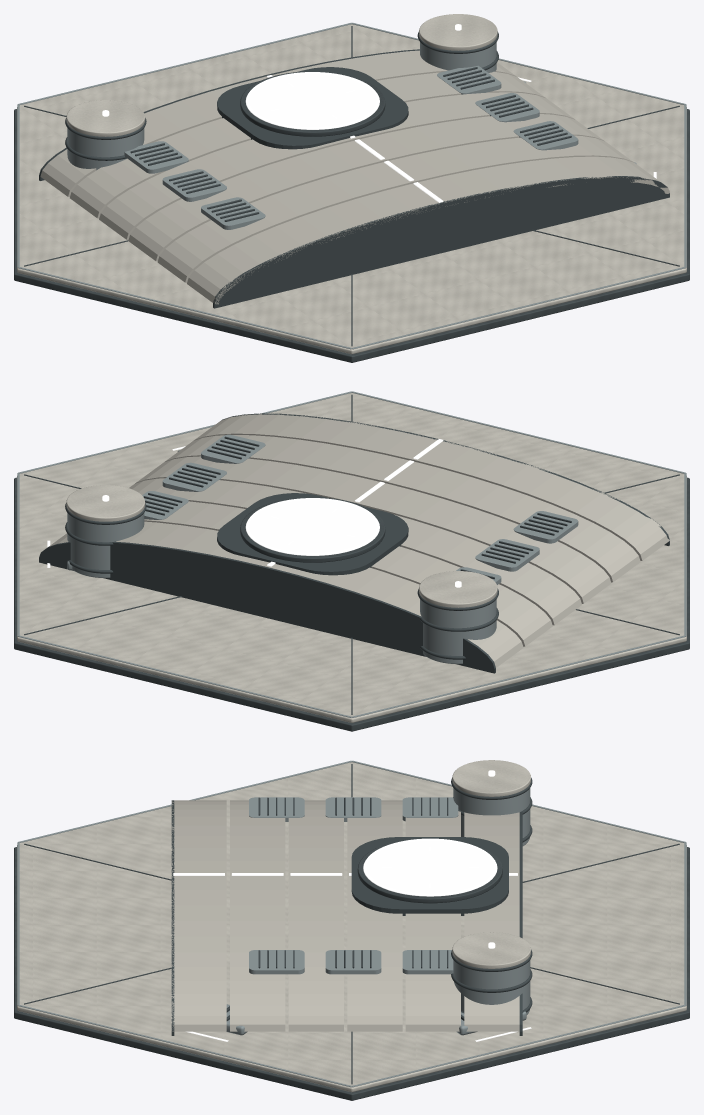
Rendered from crown-foundry.glb.
3 views of the same model, one above another, from view 1: azimuth 30°, elevation 25°; view 2: azimuth 150°, elevation 25°; view 3: azimuth 270°, elevation 25° (orthographic).
Visible parts, largest first — view 1: MF_Roof__structure_ivory_ceramic, MF_Roof_Crown__structure_ivory_ceramic, MF_Roof_Crown__structure_graphite_joints, MF_Roof_Crown__brushed_titanium, MF_Roof__structure_graphite_joints, MF_Roof_Crown__identity_roof_inset, MF_Roof__brushed_titanium, MF_Roof_Crown__identity_roof_ring; view 2: MF_Roof__structure_ivory_ceramic, MF_Roof_Crown__structure_ivory_ceramic, MF_Roof_Crown__structure_graphite_joints, MF_Roof_Crown__brushed_titanium, MF_Roof__structure_graphite_joints, MF_Roof_Crown__identity_roof_inset, MF_Roof__brushed_titanium, MF_Roof_Crown__identity_roof_ring; view 3: MF_Roof__structure_ivory_ceramic, MF_Roof_Crown__structure_ivory_ceramic, MF_Roof_Crown__brushed_titanium, MF_Roof_Crown__structure_graphite_joints, MF_Roof__structure_graphite_joints, MF_Roof_Crown__identity_roof_inset, MF_Roof__brushed_titanium, MF_Roof_Crown__identity_roof_ring.
Boxes of the visible parts, box(x1,y1,x2,y2) form: MF_Roof__structure_ivory_ceramic: box(17, 24, 686, 354); MF_Roof_Crown__structure_ivory_ceramic: box(40, 14, 669, 304); MF_Roof_Crown__structure_graphite_joints: box(39, 31, 669, 308); MF_Roof_Crown__brushed_titanium: box(67, 42, 578, 229); MF_Roof__structure_graphite_joints: box(14, 26, 689, 362); MF_Roof_Crown__identity_roof_inset: box(245, 74, 379, 129); MF_Roof__brushed_titanium: box(17, 22, 686, 349); MF_Roof_Crown__identity_roof_ring: box(246, 72, 379, 128); MF_Roof__structure_ivory_ceramic: box(17, 393, 686, 722); MF_Roof_Crown__structure_ivory_ceramic: box(48, 413, 669, 667); MF_Roof_Crown__structure_graphite_joints: box(39, 413, 669, 673); MF_Roof_Crown__brushed_titanium: box(67, 434, 578, 664); MF_Roof__structure_graphite_joints: box(14, 394, 689, 731); MF_Roof_Crown__identity_roof_inset: box(245, 500, 379, 555); MF_Roof__brushed_titanium: box(17, 391, 686, 717); MF_Roof_Crown__identity_roof_ring: box(246, 498, 379, 554); MF_Roof__structure_ivory_ceramic: box(17, 762, 686, 1092); MF_Roof_Crown__structure_ivory_ceramic: box(171, 760, 530, 1031); MF_Roof_Crown__brushed_titanium: box(249, 788, 530, 1014); MF_Roof_Crown__structure_graphite_joints: box(171, 777, 532, 1035); MF_Roof__structure_graphite_joints: box(14, 764, 689, 1100); MF_Roof_Crown__identity_roof_inset: box(363, 840, 497, 896); MF_Roof__brushed_titanium: box(17, 760, 686, 1087); MF_Roof_Crown__identity_roof_ring: box(364, 838, 496, 895).
Bounding box in the file's own units: 36.67 × 4.11 × 31.78.
7 materials, 2 textured.
